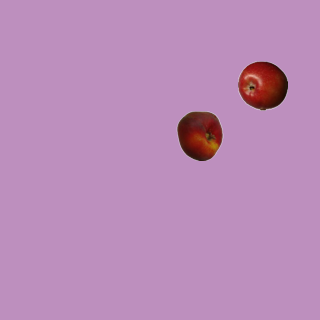Apple Braeburn: (237, 60, 287, 110)
Nectarine Flat: (174, 110, 224, 160)
